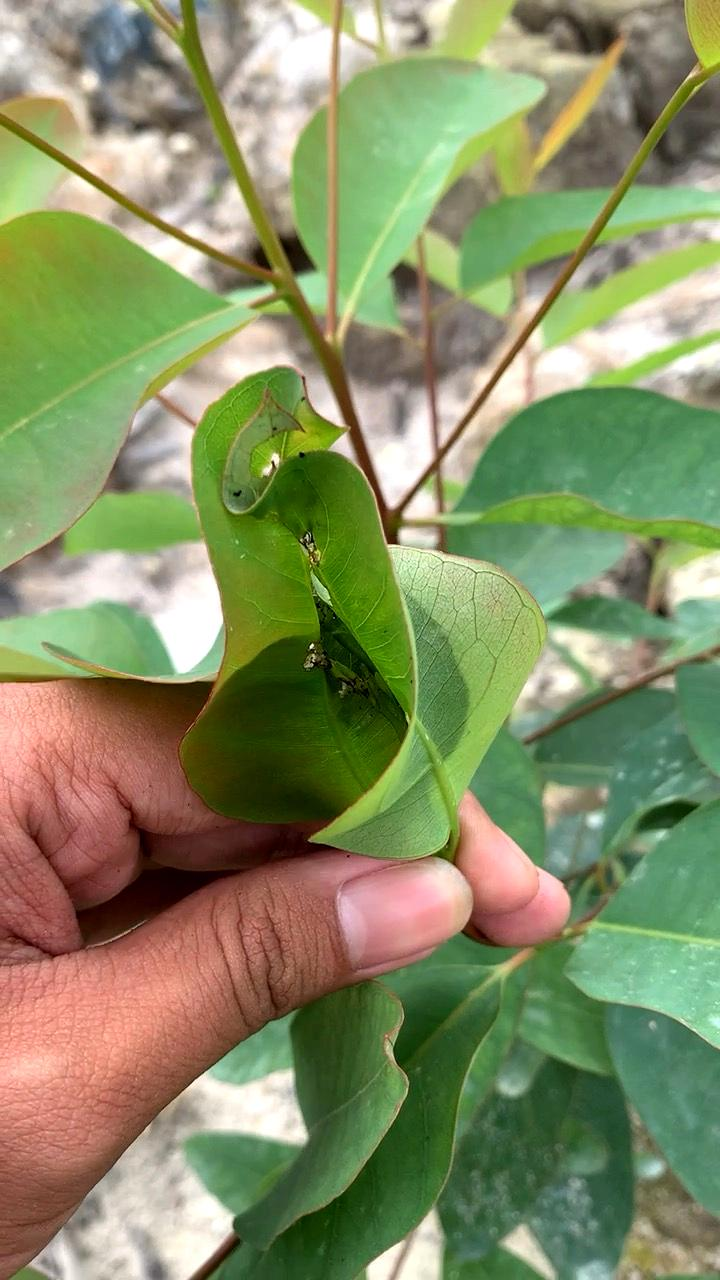Leaf Roller - Leaf: (161, 343, 566, 878)
